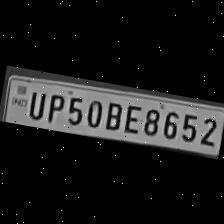0: (82, 94, 106, 130)
2: (195, 112, 220, 146)
5: (61, 92, 86, 128), (176, 108, 200, 143)
6: (157, 105, 181, 139)
8: (137, 102, 161, 137)
B: (99, 96, 124, 132)
E: (119, 100, 144, 136)
P: (42, 88, 66, 124)
U: (22, 86, 46, 121)
